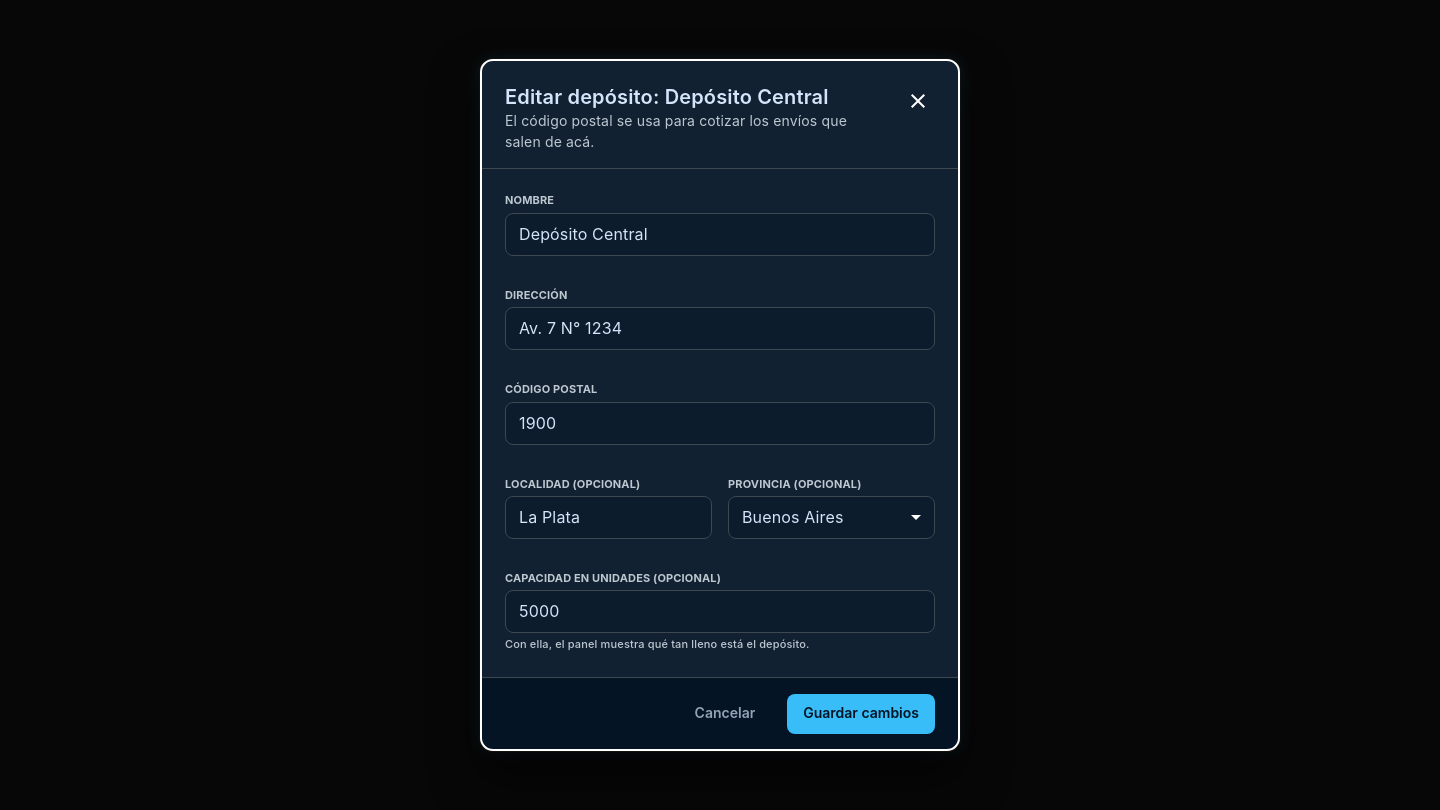
Test: WarehouseFormModal › the capacity › refuses a number the column cannot hold
Type "3000000000" into the 5th field. click: (720, 612)
box: [505,590,935,633]
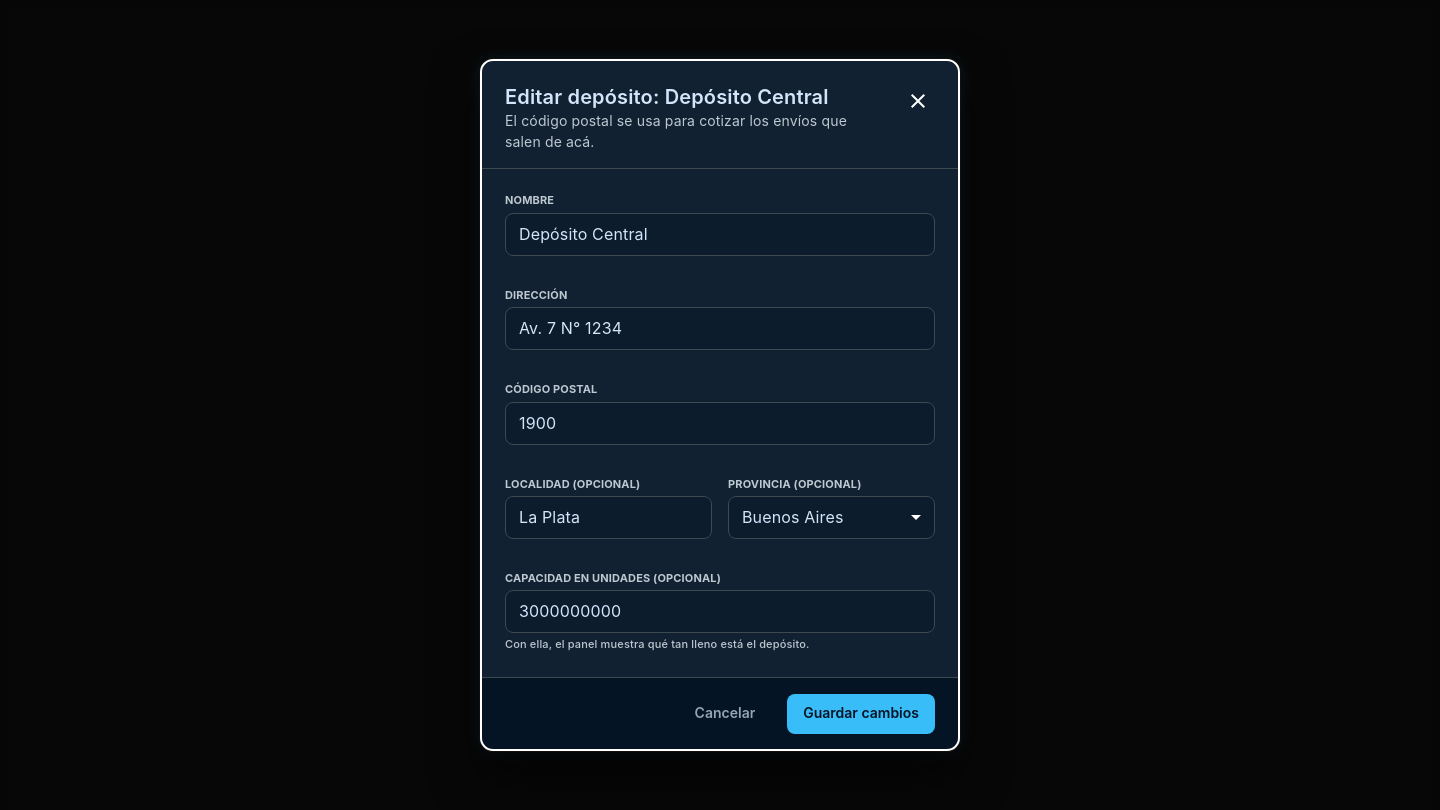
Click the button "Guardar cambios". click: (861, 714)
box: [787,694,935,734]
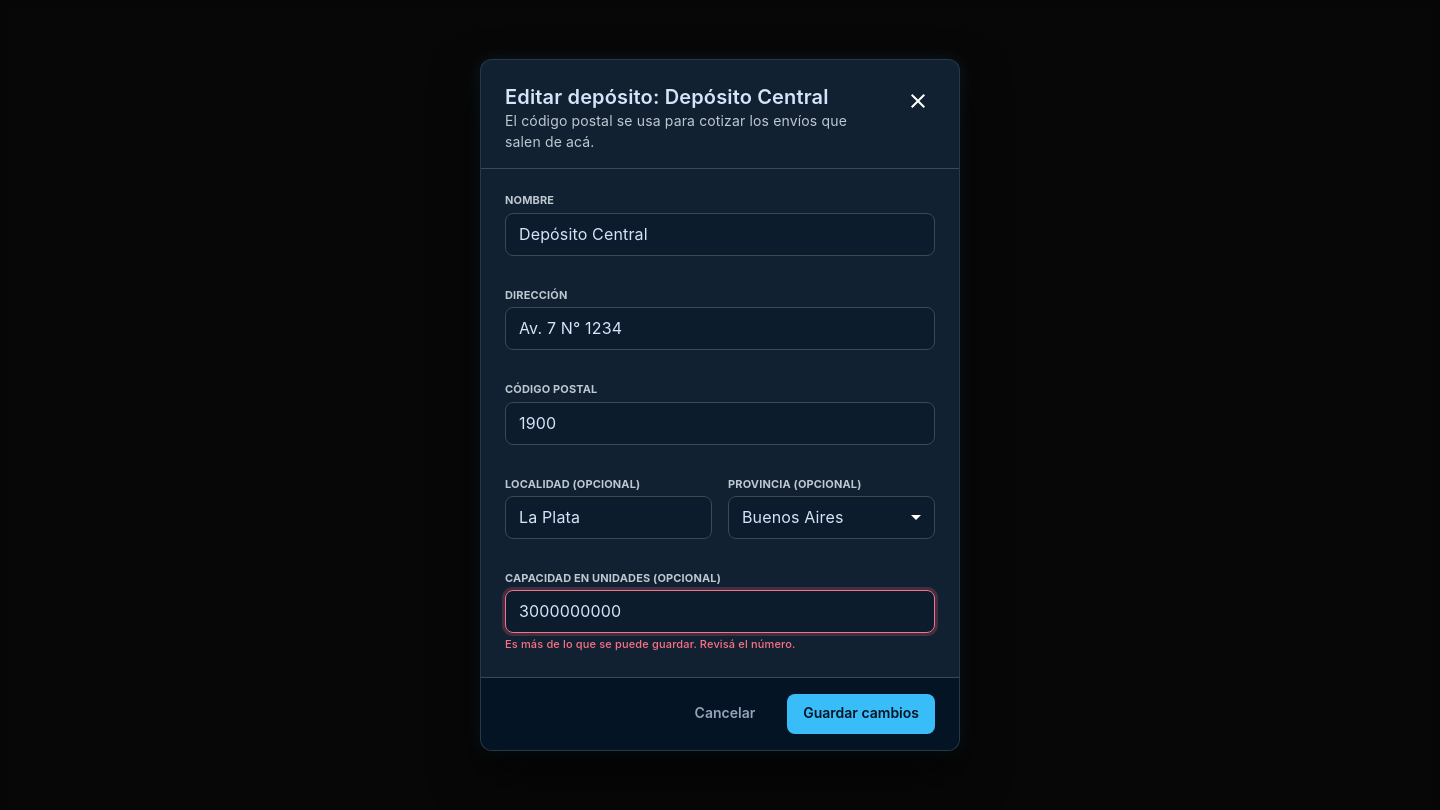
Check: the text "Es más de lo que se puede guardar. Revisá el número." is shown, box [505,637,796,651]
